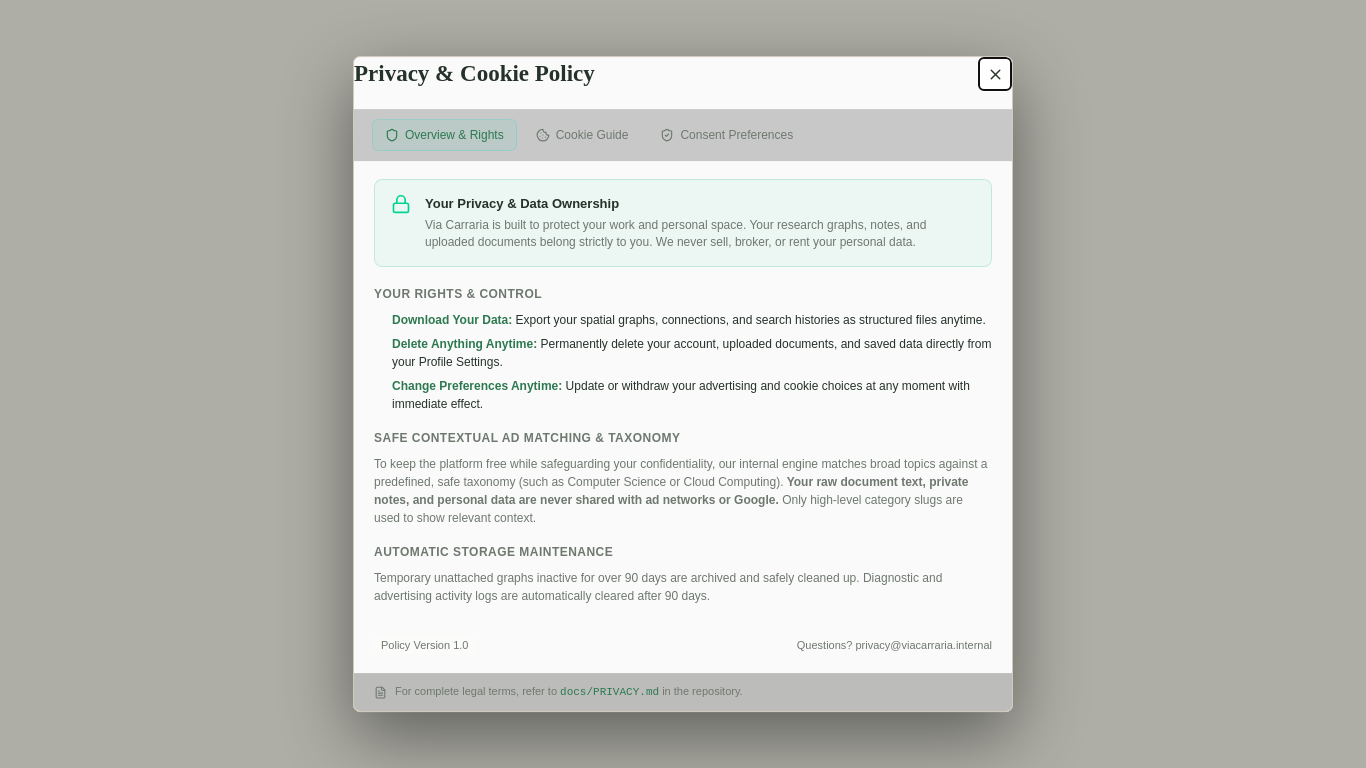
Test: PrivacyPolicyDialog › allows updating consent to granted (personalized) and denied (decline)
Click the tab with test id "privacy-tab-preferences".
click(727, 135)  # box [647,119,806,151]
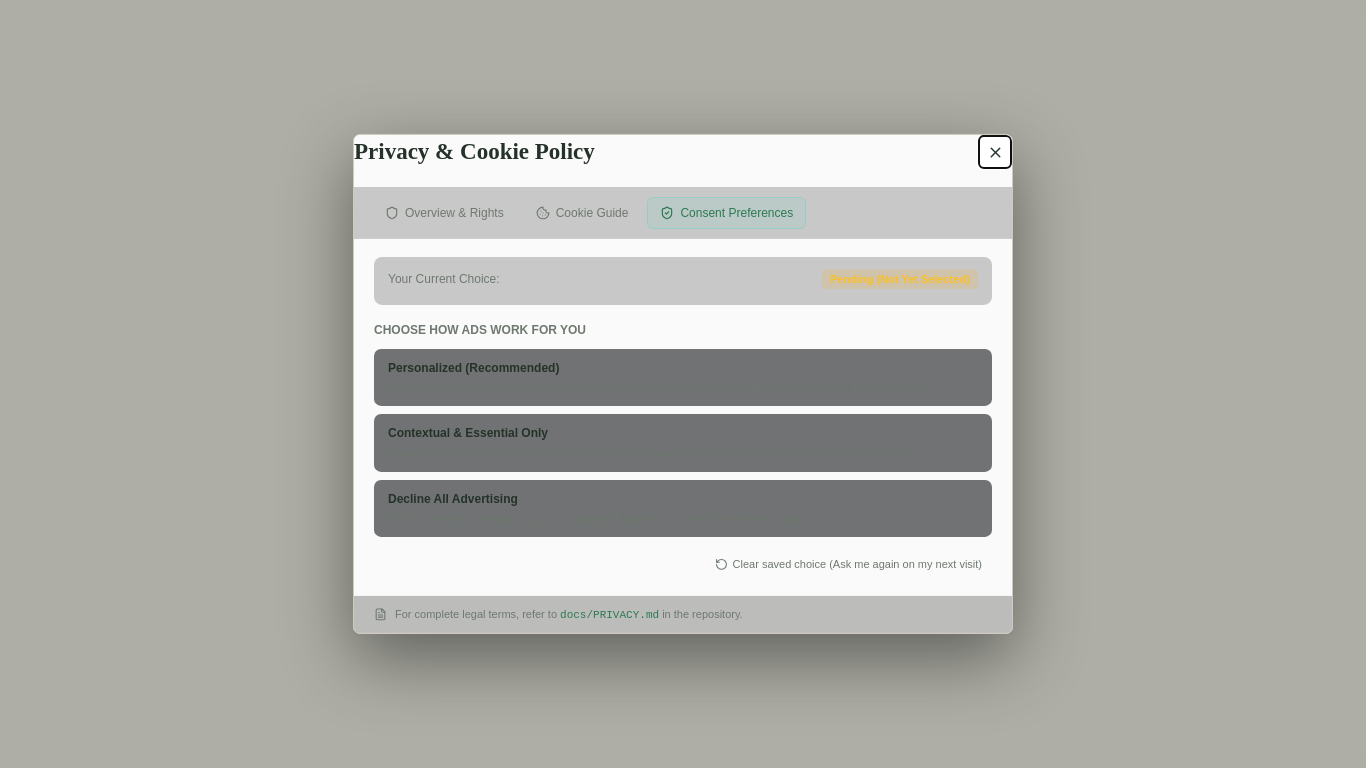
Click the button with test id "pref-opt-granted".
click(474, 368)  # box [374,349,992,406]
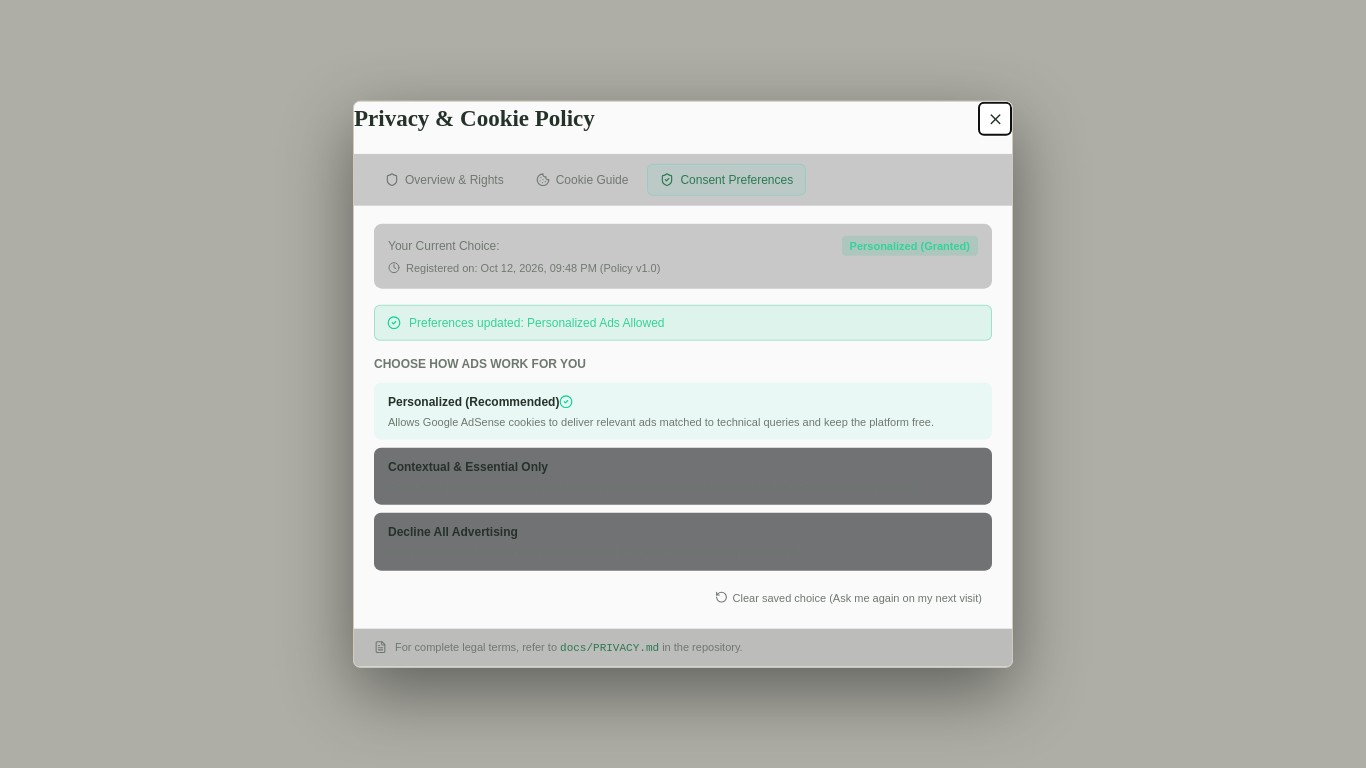
expect the text with test id "current-consent-status" shows "Personalized": met, box [850,239,970,251]
Click the button with test id "pref-opt-denied".
click(453, 532)  # box [374,513,992,570]
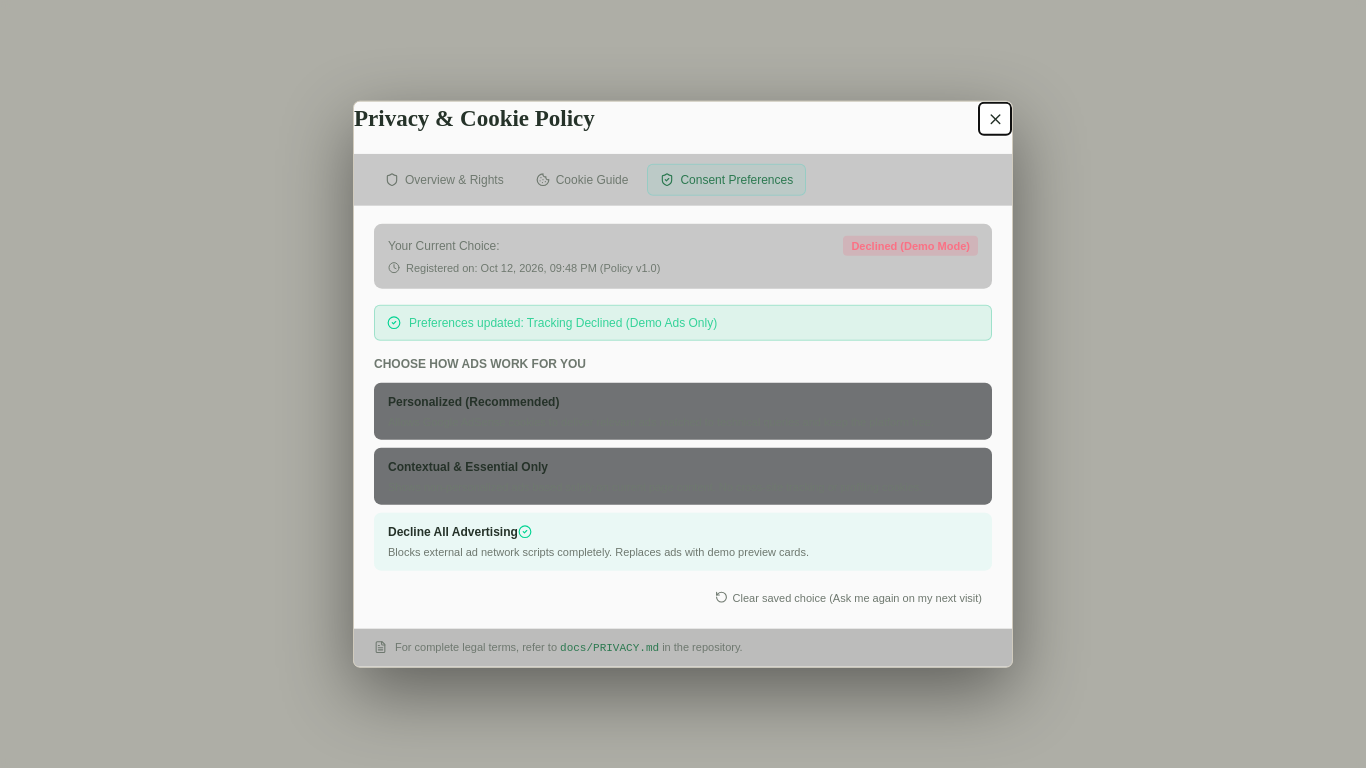
expect the text with test id "current-consent-status" shows "Declined": met, box [851,239,970,251]
